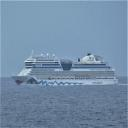cruises: (11, 49, 120, 88)
